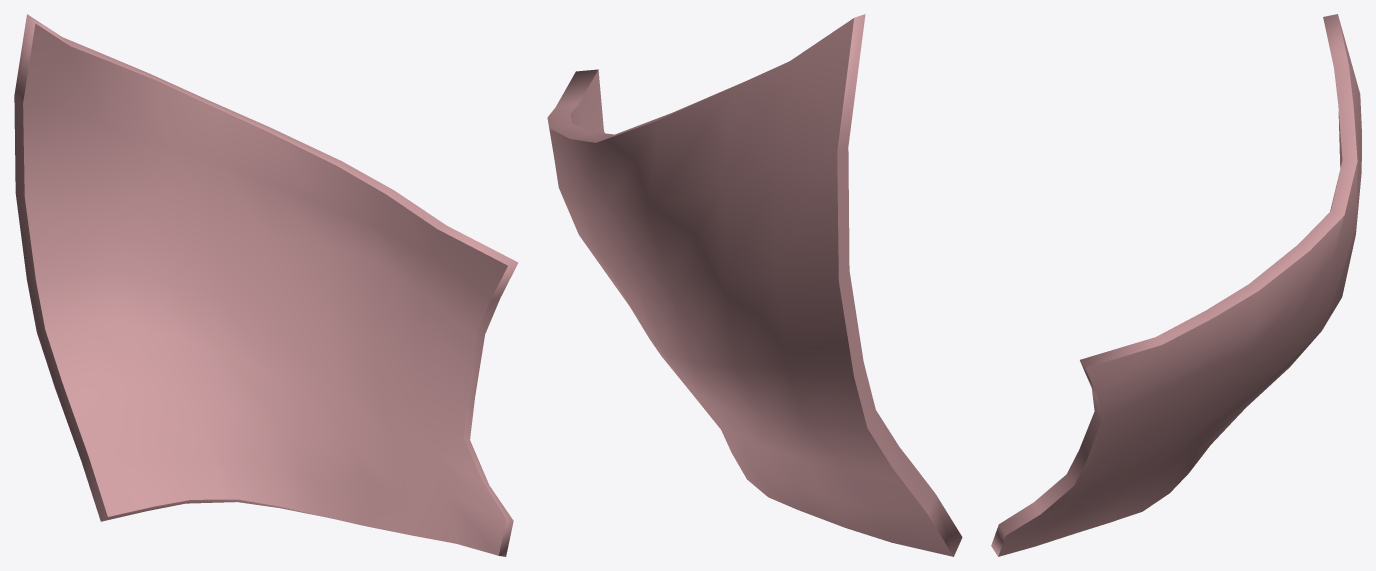
3 renders of one model, left to right at view 1: azimuth 30°, elevation 25°; view 2: azimuth 150°, elevation 25°; view 3: azimuth 270°, elevation 25°, orthographic. The views are drawn at different scales.
Parts seen in each view (by area): view 1: ZA_ed95a6f0b8cfccc0; view 2: ZA_ed95a6f0b8cfccc0; view 3: ZA_ed95a6f0b8cfccc0.
Boxes of the visible parts, bbox=[...] form: ZA_ed95a6f0b8cfccc0: bbox=[14, 14, 518, 556]; ZA_ed95a6f0b8cfccc0: bbox=[547, 14, 962, 556]; ZA_ed95a6f0b8cfccc0: bbox=[991, 14, 1361, 556].
Size of the model in its own units: 0.0704 by 0.0911 by 0.0731.
